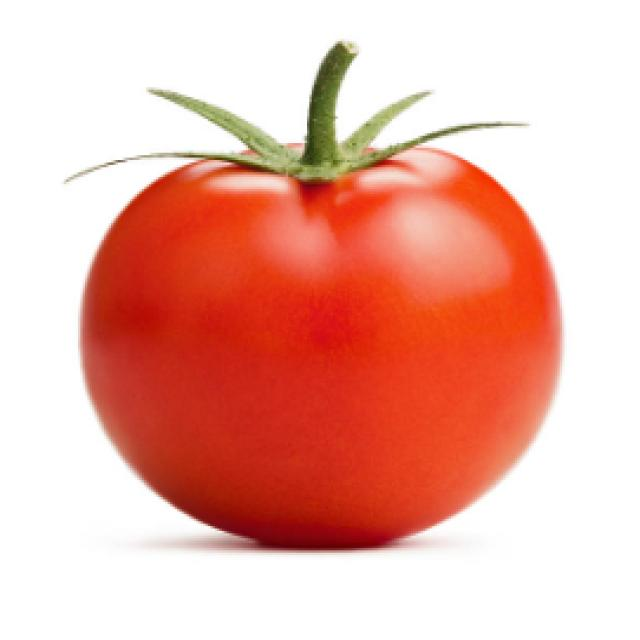Tomato: (71, 34, 562, 548)
